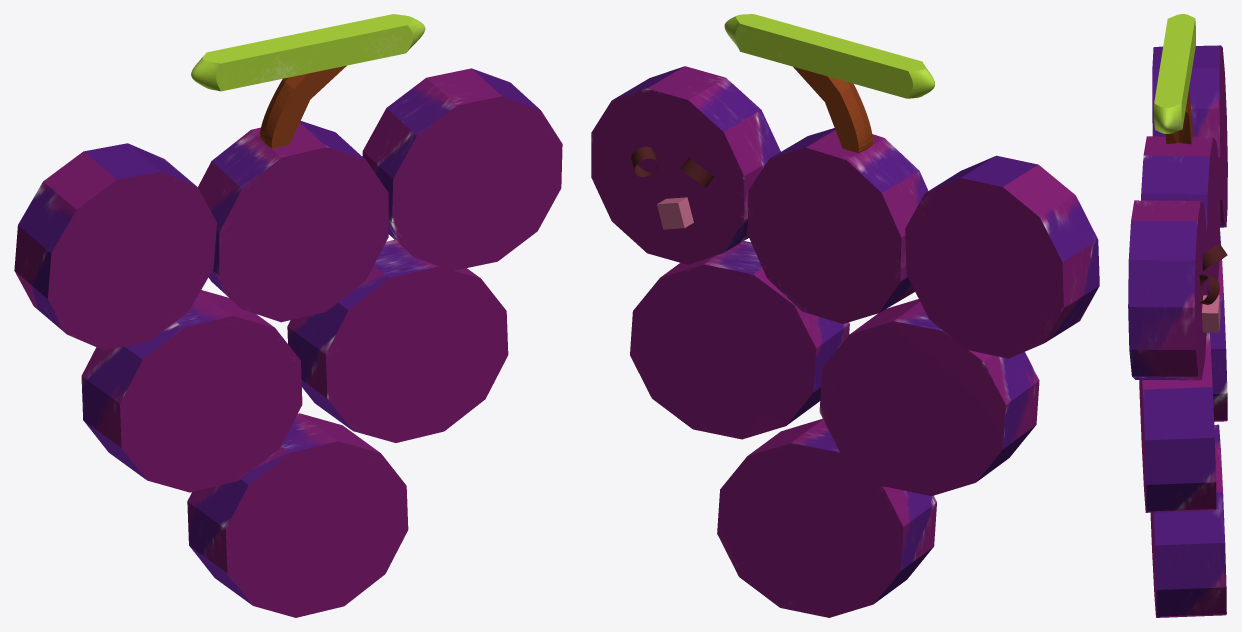
The model's file is budoo1.obj.
The picture shows the model from 3 angles, left to right: view 1: azimuth 30°, elevation 25°; view 2: azimuth 150°, elevation 25°; view 3: azimuth 270°, elevation 25°; orthographic projection. The views are drawn at different scales.
Visible parts, largest first — view 1: 立方体.004, 立方体.007, 立方体.005, 立方体.006, 立方体.003, 立方体.002, 立方体, 立方体.001; view 2: 立方体.004, 立方体.007, 立方体.005, 立方体.006, 立方体.002, 立方体.003, 立方体, 立方体.001, 立方体.008; view 3: 立方体.003, 立方体.006, 立方体.005, 立方体.002, 立方体.004, 立方体, 立方体.007, 立方体.008, 立方体.001, 円柱, 円柱.001.
Part boxes in pixels (box(x1,y1,x2,y2)): 立方体.004: box(14, 143, 216, 350); 立方体.007: box(81, 290, 302, 492); 立方体.005: box(187, 413, 408, 617); 立方体.006: box(287, 240, 508, 442); 立方体.003: box(362, 68, 562, 270); 立方体.002: box(198, 121, 388, 322); 立方体: box(191, 14, 425, 91); 立方体.001: box(260, 65, 346, 148); 立方体.004: box(905, 155, 1099, 358); 立方体.007: box(819, 299, 1039, 496); 立方体.005: box(717, 418, 936, 617); 立方体.006: box(630, 241, 849, 439); 立方体.002: box(747, 128, 928, 323); 立方体.003: box(591, 66, 780, 264); 立方体: box(724, 14, 934, 98); 立方体.001: box(793, 66, 872, 153); 立方体.008: box(657, 197, 693, 229); 立方体.003: box(1128, 200, 1207, 380); 立方体.006: box(1139, 332, 1216, 512); 立方体.005: box(1150, 424, 1226, 617); 立方体.002: box(1141, 136, 1220, 294); 立方体.004: box(1152, 45, 1227, 227); 立方体: box(1154, 14, 1195, 133); 立方体.007: box(1209, 232, 1227, 421); 立方体.008: box(1201, 295, 1220, 332); 立方体.001: box(1165, 90, 1192, 144); 円柱: box(1199, 274, 1219, 304); 円柱.001: box(1202, 243, 1227, 270).
Bounding box in the file's own units: 1.15 × 1.24 × 0.2053.
Materials: 1 (1 with a texture image).
